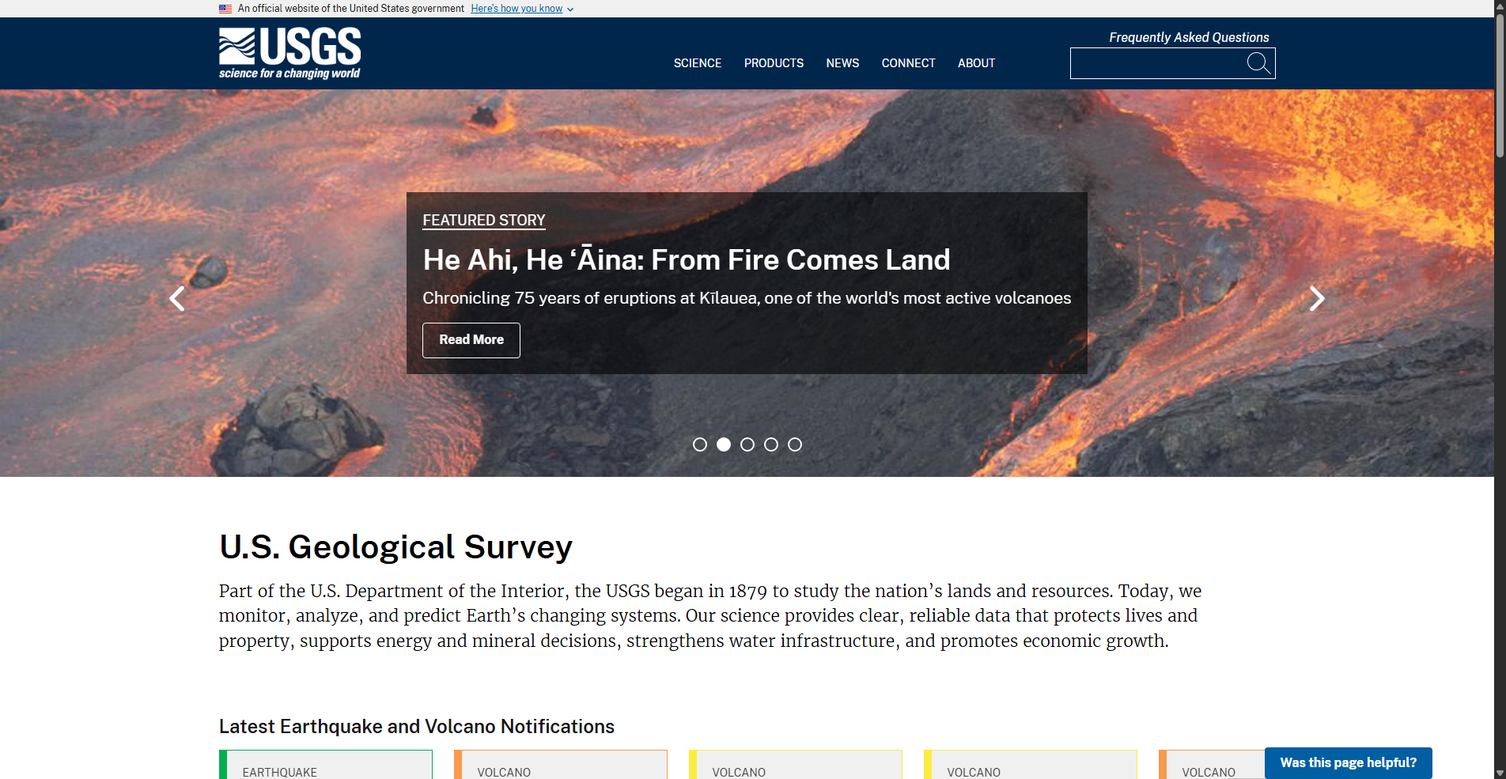button: (545, 286, 732, 361), (751, 286, 937, 361), (1264, 747, 1432, 779), (733, 27, 815, 80), (871, 27, 946, 80), (663, 27, 733, 80), (366, 323, 466, 358), (946, 27, 1007, 80), (815, 27, 871, 80), (545, 549, 622, 580), (929, 121, 963, 154), (471, 3, 563, 15), (471, 3, 563, 14), (1244, 47, 1275, 79), (692, 437, 707, 452), (787, 437, 802, 452), (716, 437, 730, 452), (740, 437, 754, 452), (764, 437, 778, 452)
dropdown: (733, 27, 815, 80), (871, 27, 946, 80), (663, 27, 733, 80), (946, 27, 1007, 80), (815, 27, 871, 80)
input: (1070, 47, 1275, 79)
label: (545, 286, 732, 361), (751, 286, 937, 361), (545, 245, 937, 262), (545, 380, 937, 397)
link: (366, 212, 551, 230), (1411, 696, 1462, 747), (1109, 30, 1269, 45), (219, 69, 361, 84), (841, 643, 905, 655)
textarea: (545, 404, 937, 530)
